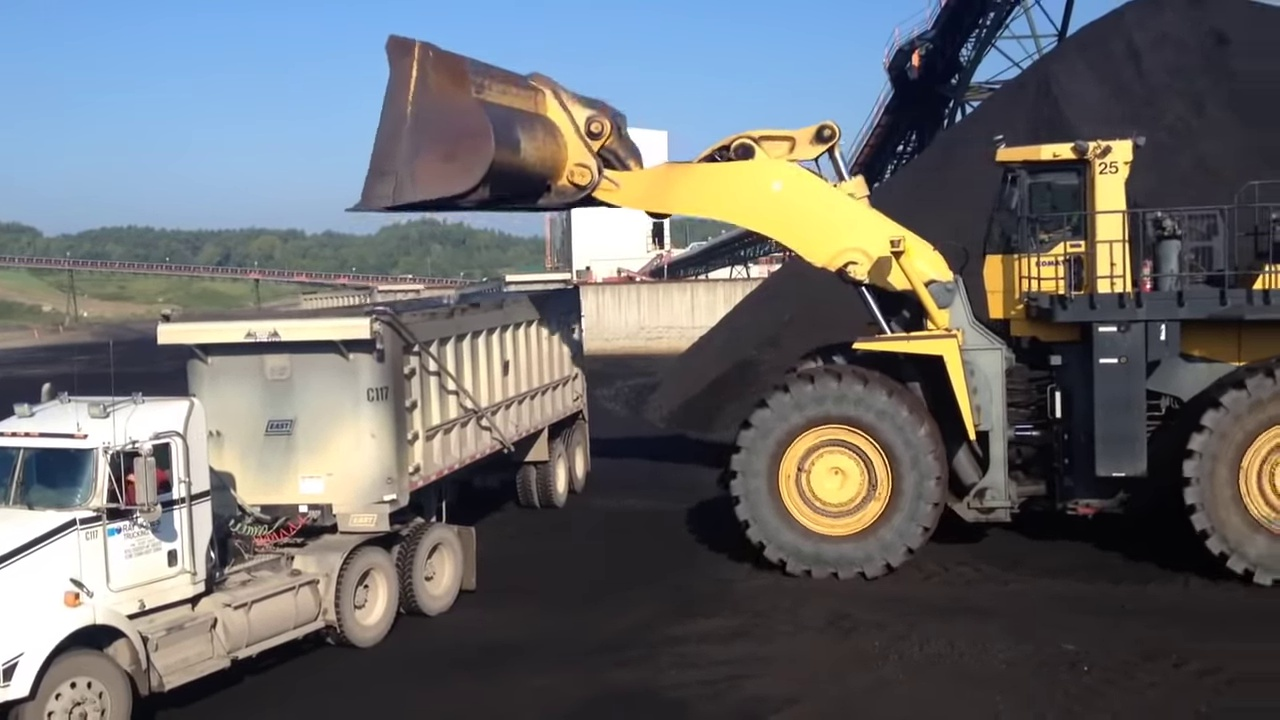truck: (1, 280, 593, 720)
wheel loader: (344, 33, 1280, 583)
